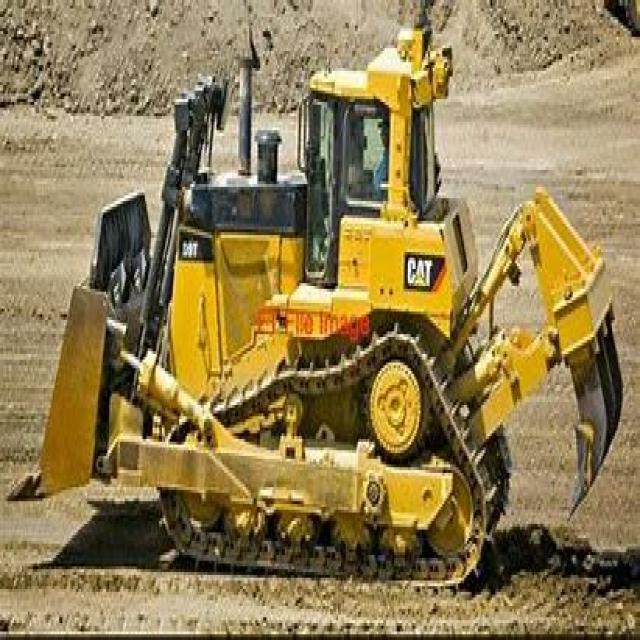Bulldozer: (24, 17, 638, 606)
